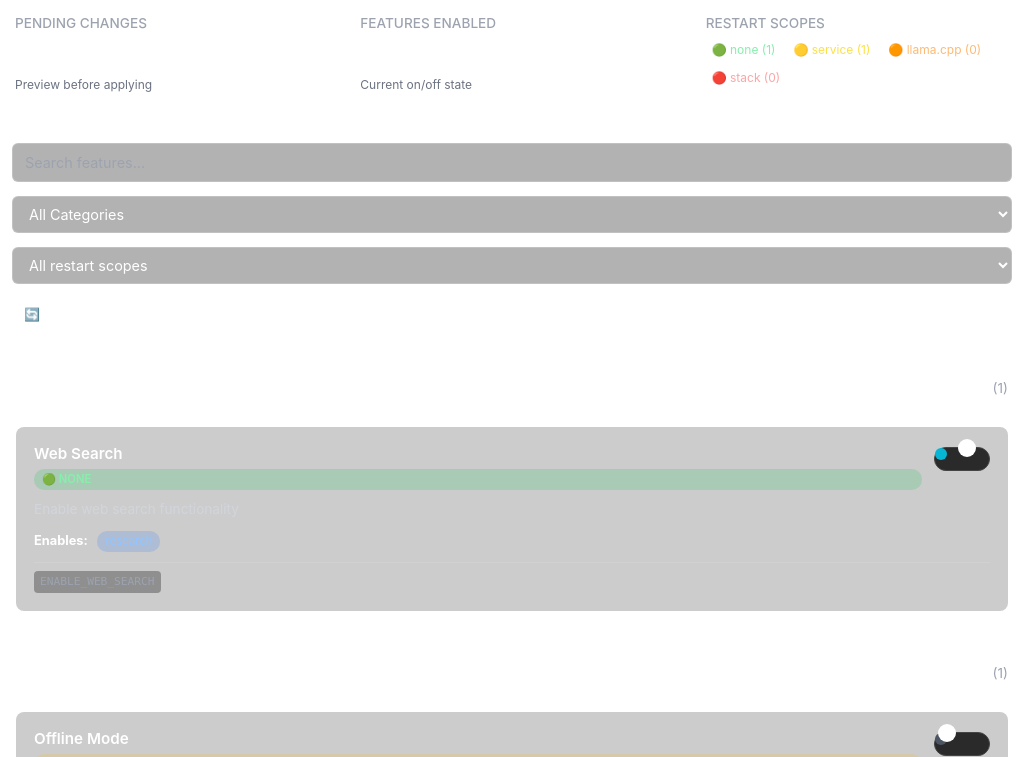
SystemTab › Search and Filters › filters features by search query
Type "Web" into the field with placeholder "Search features..." at (512, 163), box [12,143,1012,182]
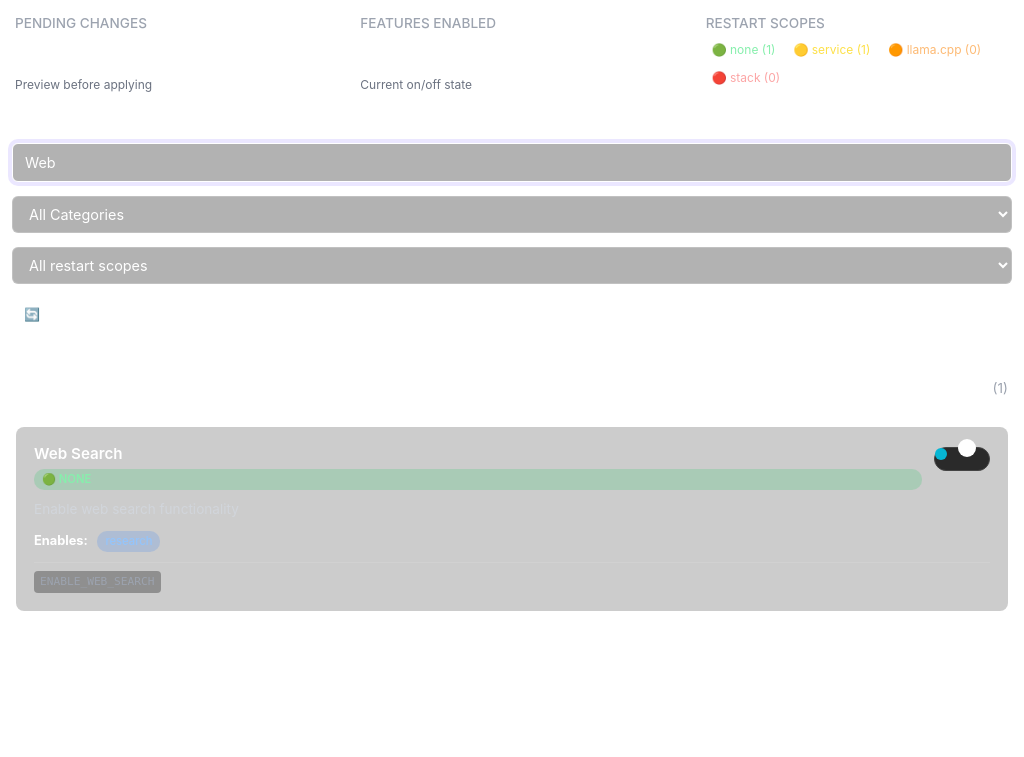
expect the heading "Web Search" is shown: met, box [34,444,123,463]
expect the heading "Offline Mode" is gone: met
